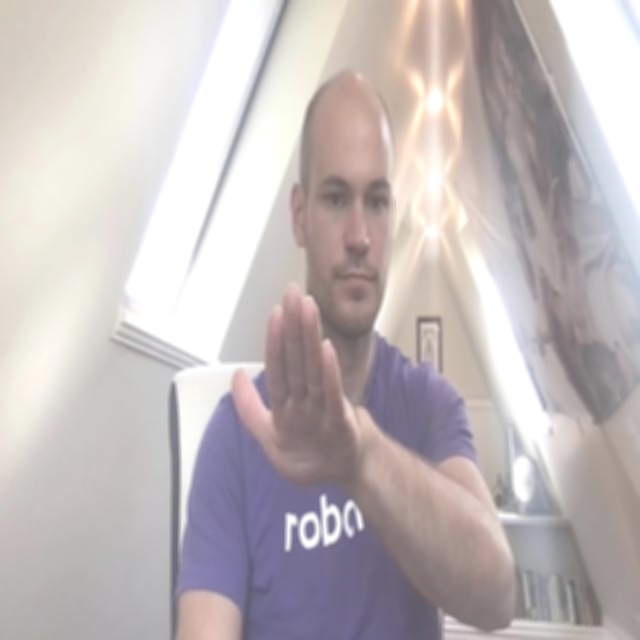Paper: (239, 280, 360, 485)
